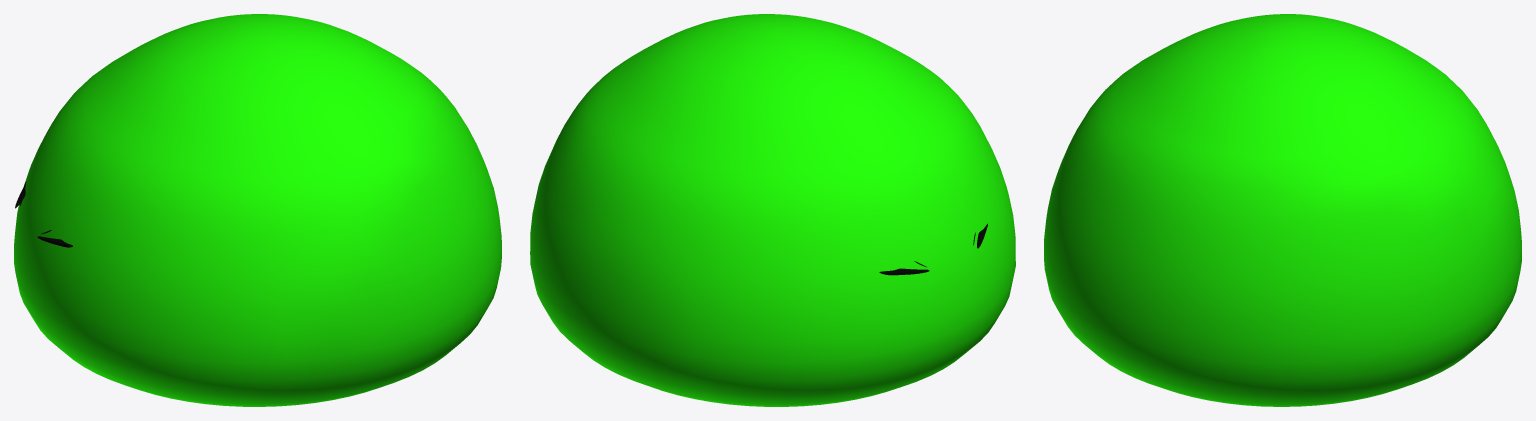
Rendered from slime [pack.fbx.
3 renders of one model, left to right at view 1: azimuth 30°, elevation 25°; view 2: azimuth 150°, elevation 25°; view 3: azimuth 270°, elevation 25°, orthographic.
Parts seen in each view (by area): view 1: Sphere; view 2: Sphere; view 3: Sphere.
Part boxes in pixels (x1=…): Sphere: x1=14, y1=14, x2=501, y2=406; Sphere: x1=530, y1=14, x2=1015, y2=406; Sphere: x1=1044, y1=14, x2=1521, y2=406.
Bounding box in the file's own units: 181 × 132 × 178.
